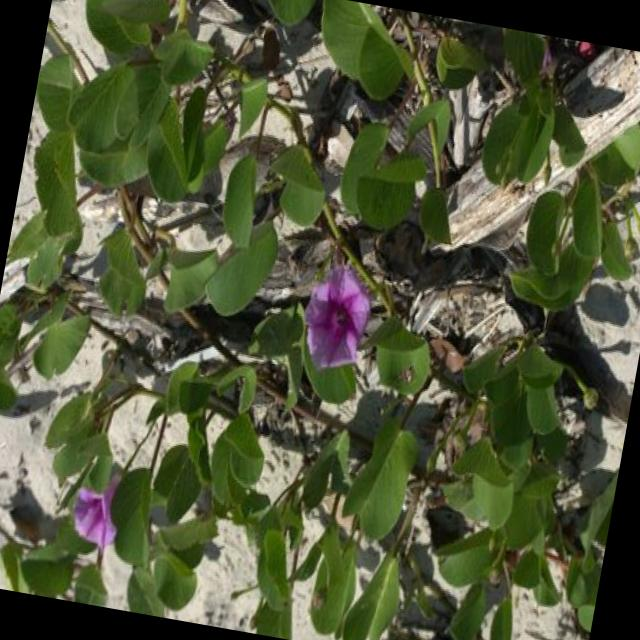ipomoea: (292, 253, 383, 381), (63, 460, 133, 557)
